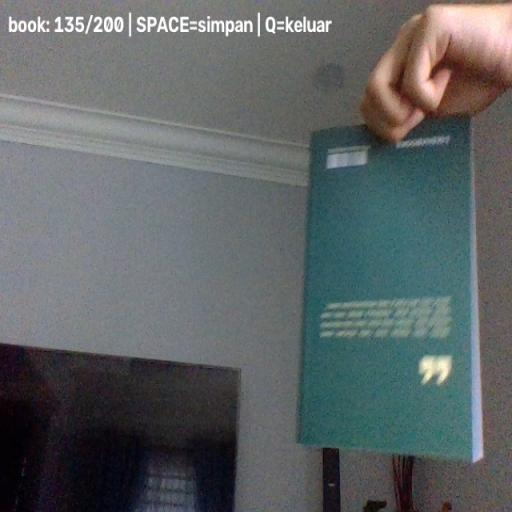Book: (295, 116, 484, 462)
